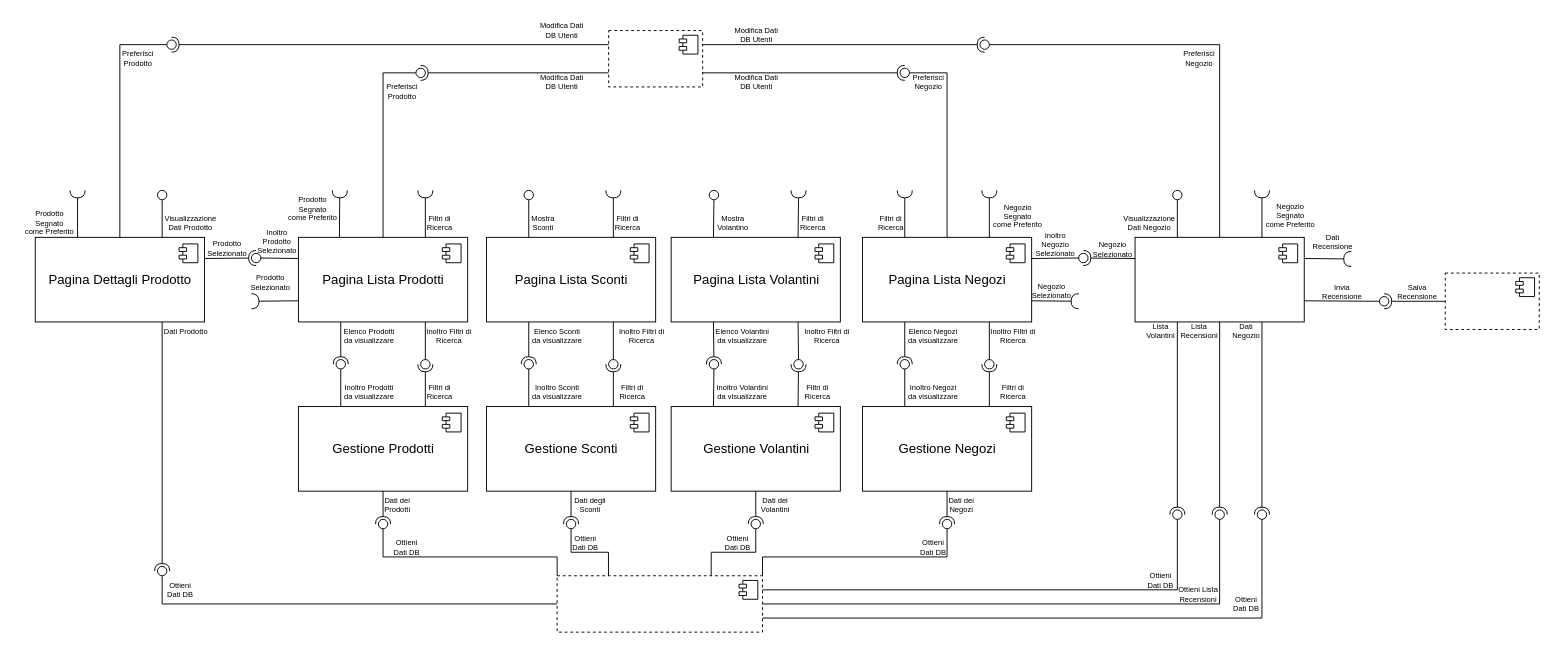
Image size: 1556x649. Some labels were removed from this diagram. Here are the shapes that lost their labels. From the top down, the box of each, then its label:
(608, 30, 703, 87): ScritturaDBUtenti
(1134, 236, 1304, 322): Pagina Dettagli Negozio
(1444, 272, 1539, 329): ScritturaDBDati
(556, 575, 763, 632): LetturaDBDati
